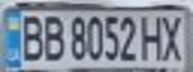0: (84, 12, 106, 62)
2: (118, 11, 139, 62)
5: (103, 11, 124, 62)
8: (66, 12, 87, 62)
B: (15, 11, 48, 62), (39, 11, 66, 62)
H: (139, 11, 166, 62)
X: (157, 11, 190, 62)
